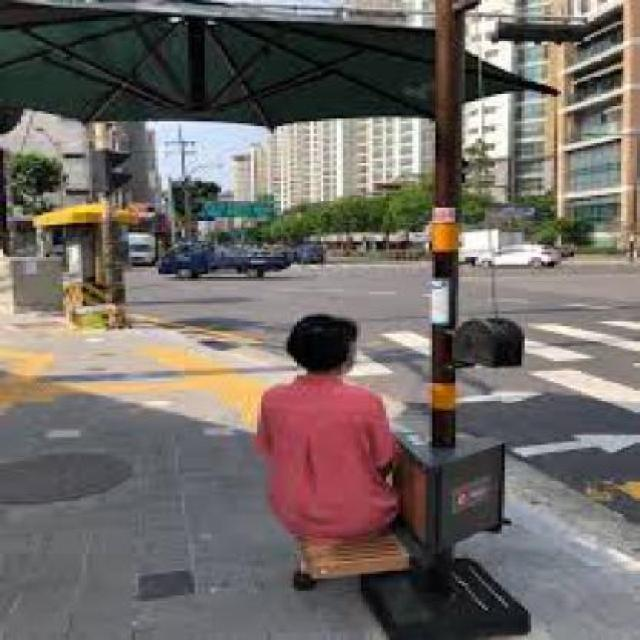-: (263, 316, 419, 587)
